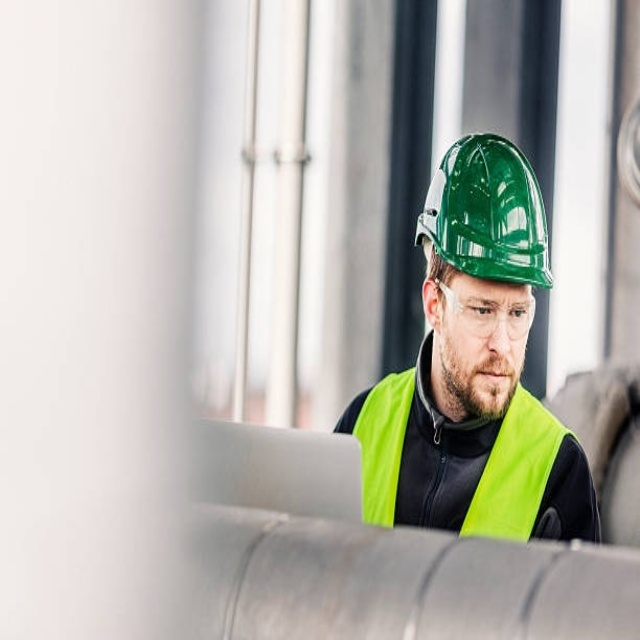Gafas: (435, 276, 536, 342)
Sin_mascara: (465, 351, 513, 405)
